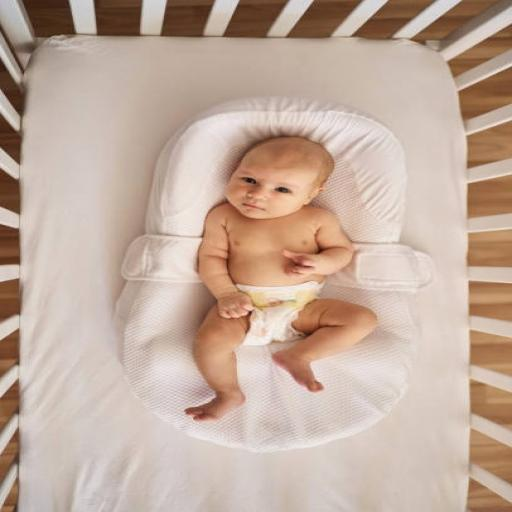baby: (186, 137, 375, 421)
crib: (0, 0, 511, 511)
